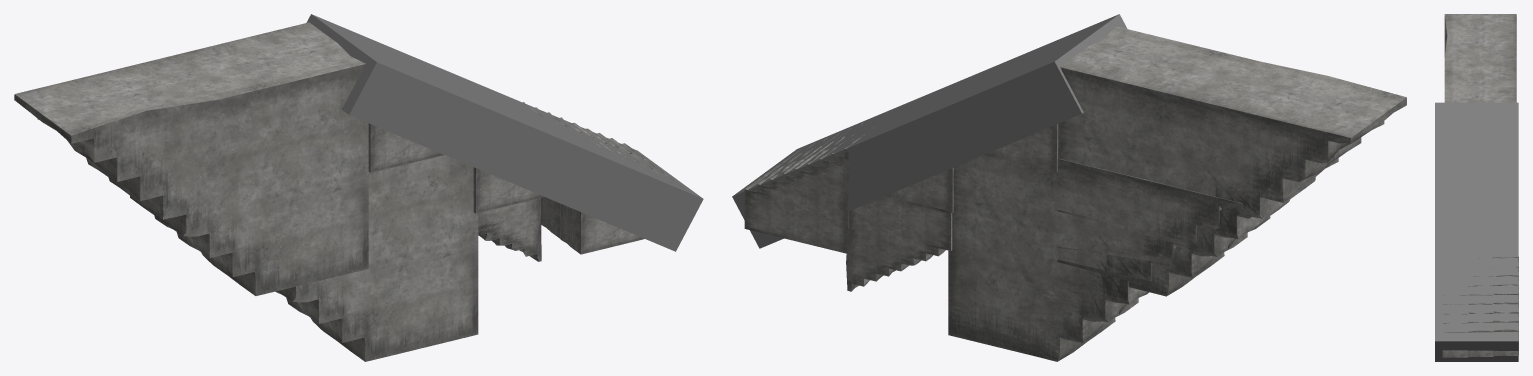
Rendered from Stair.fbx.
3 views of the same model, side by side, from view 1: azimuth 30°, elevation 25°; view 2: azimuth 150°, elevation 25°; view 3: azimuth 270°, elevation 25° (orthographic). The views are drawn at different scales.
Parts seen in each view (by area): view 1: Stairs_1__3_, Cube, Stairs_1__2_, Stairs__9_, Stairs, Stairs__2_, Stairs__1_, Stairs__3_; view 2: Stairs_1__3_, Stairs_1__2_, Cube, Stairs__6_, Stairs__9_, Stairs__8_, Stairs__7_; view 3: Cube, Stairs_1__3_, Stairs__6_, Stairs__3_, Stairs.
Boxes of the visible parts, left/top/right/bottom form: Stairs_1__3_: left=14, top=22, right=368, bottom=295; Cube: left=306, top=14, right=703, bottom=251; Stairs_1__2_: left=227, top=155, right=478, bottom=361; Stairs__9_: left=478, top=198, right=541, bottom=261; Stairs: left=560, top=156, right=684, bottom=254; Stairs__2_: left=368, top=123, right=443, bottom=172; Stairs__1_: left=473, top=167, right=543, bottom=213; Stairs__3_: left=541, top=122, right=665, bottom=238; Stairs_1__3_: left=1057, top=26, right=1406, bottom=296; Stairs_1__2_: left=948, top=155, right=1242, bottom=361; Cube: left=732, top=14, right=1127, bottom=248; Stairs__6_: left=744, top=134, right=865, bottom=253; Stairs__9_: left=846, top=196, right=952, bottom=291; Stairs__8_: left=984, top=124, right=1058, bottom=172; Stairs__7_: left=886, top=167, right=953, bottom=213; Cube: left=1435, top=102, right=1518, bottom=361; Stairs_1__3_: left=1444, top=14, right=1516, bottom=102; Stairs__6_: left=1493, top=256, right=1518, bottom=355; Stairs__3_: left=1468, top=258, right=1493, bottom=356; Stairs: left=1442, top=287, right=1468, bottom=357.
Bounding box in the file's own units: 1275 × 595 × 233.
Materials: 2 (1 with a texture image).
